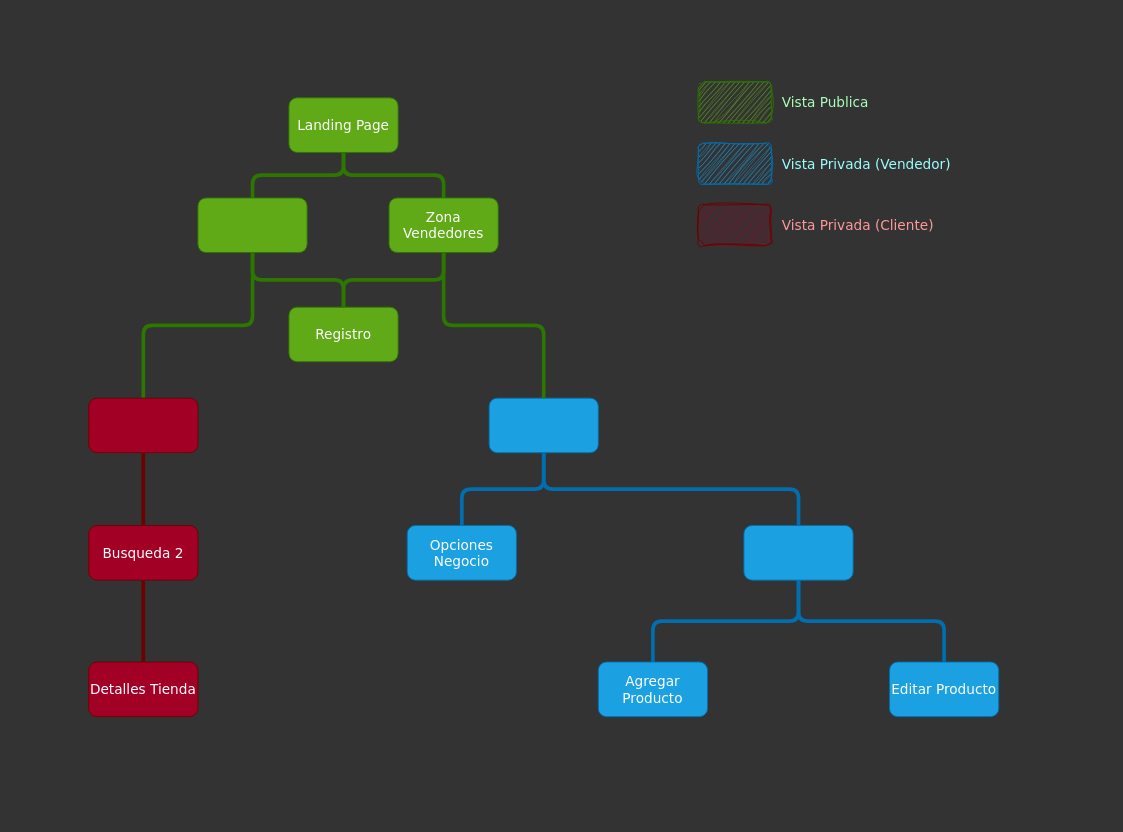
This 1123x832 diagram has some shape labels left out. The shapes that lost their labels are listed below. From the top down, each one's centre as x and y in pixels, then its label:
point (252, 225): Zona Usuarios
point (143, 425): Dashboard Cliente / Busqueda 1
point (543, 425): Dashboard Vendedor
point (798, 552): Listado Productos
